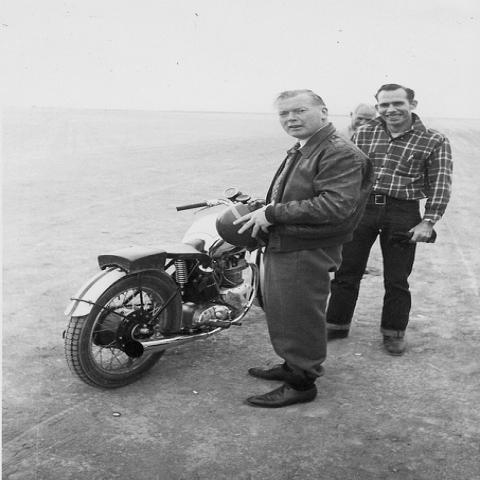motorcycle: (64, 187, 267, 391)
